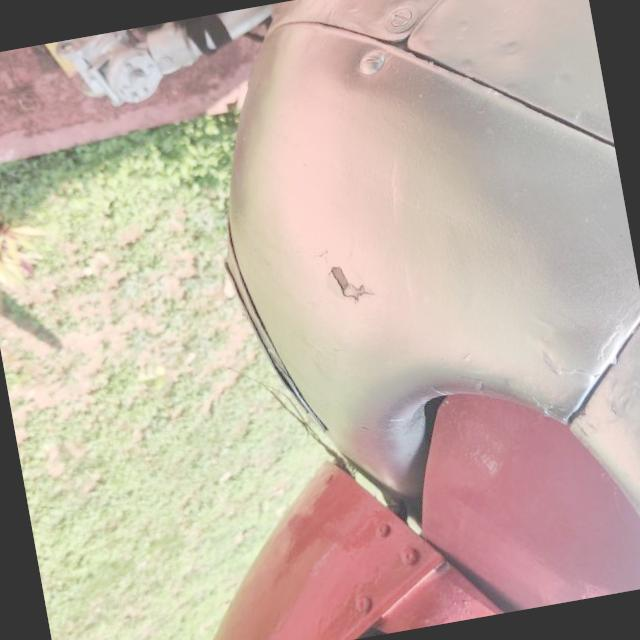paint-off: (312, 246, 393, 324)
